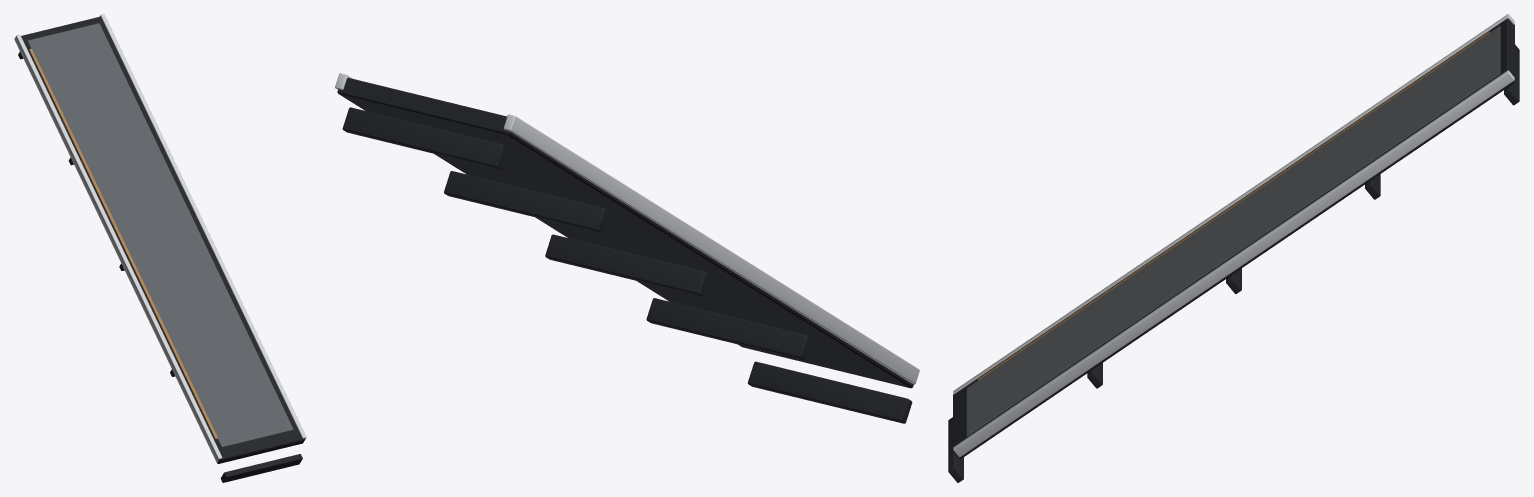
File: path_ramp.glb
The picture shows the model from 3 angles, left to right: view 1: azimuth 30°, elevation 25°; view 2: azimuth 150°, elevation 25°; view 3: azimuth 270°, elevation 25°; orthographic projection. The views are drawn at different scales.
Parts seen in each view (by area): view 1: RampPanel, RampDeck, RampRail0, RampRail1, RampHazard, RampRib0; view 2: RampDeck, RampRail0, RampRib2, RampRib1, RampRib0, RampRib3, RampRib4; view 3: RampPanel, RampRail1, RampDeck, RampRail0, RampHazard.
Boxes of the visible parts, <box> form: RampPanel: <box>28,23,293,447</box>; RampDeck: <box>21,16,305,463</box>; RampRail0: <box>14,34,222,462</box>; RampRail1: <box>100,14,306,439</box>; RampHazard: <box>29,48,217,438</box>; RampRib0: <box>220,454,302,482</box>; RampDeck: <box>337,77,913,388</box>; RampRail0: <box>503,114,919,384</box>; RampRib2: <box>545,234,709,296</box>; RampRib1: <box>646,298,810,360</box>; RampRib0: <box>748,361,912,423</box>; RampRib3: <box>444,171,608,233</box>; RampRib4: <box>342,107,507,169</box>; RampPanel: <box>966,26,1500,436</box>; RampRail1: <box>953,70,1514,457</box>; RampDeck: <box>953,18,1514,459</box>; RampRail0: <box>953,14,1514,394</box>; RampHazard: <box>978,32,1489,380</box>.
Bounding box in the file's own units: 1 × 3.29 × 4.11.
